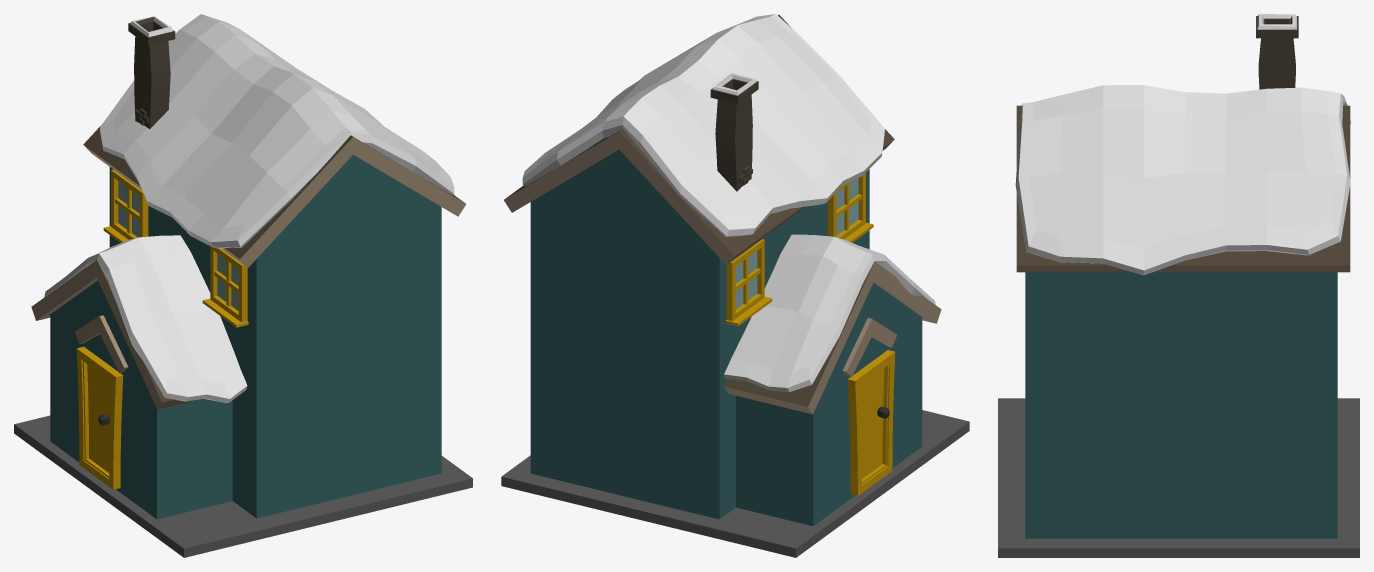
File: House_V03.fbx
3 renders of one model, left to right at view 1: azimuth 30°, elevation 25°; view 2: azimuth 150°, elevation 25°; view 3: azimuth 270°, elevation 25°, orthographic. The views are drawn at different scales.
Visible parts, largest first — view 1: House_V03; view 2: House_V03; view 3: House_V03.
Part boxes in pixels (x1,y1,x2,y2): House_V03: (14, 14, 472, 557); House_V03: (501, 14, 969, 557); House_V03: (998, 14, 1359, 557).
Size of the model in its own units: 7.39 by 9.54 by 7.11.
